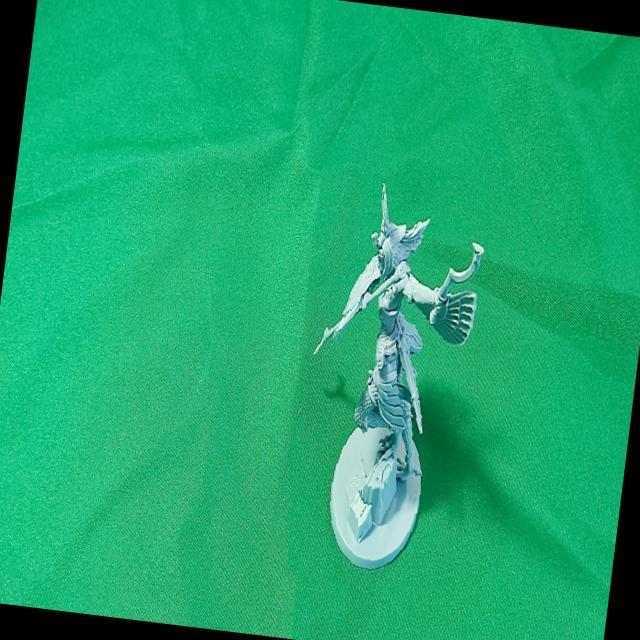isis: (266, 146, 510, 601)
